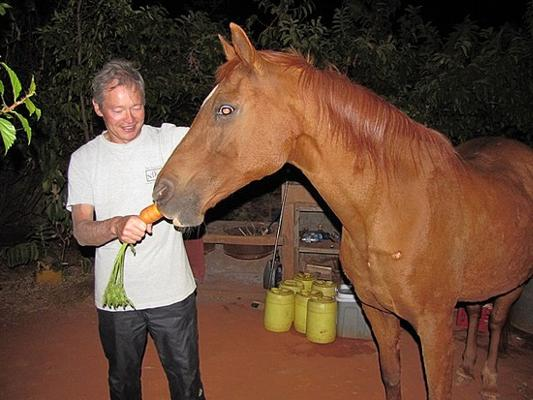person: (65, 62, 207, 400)
